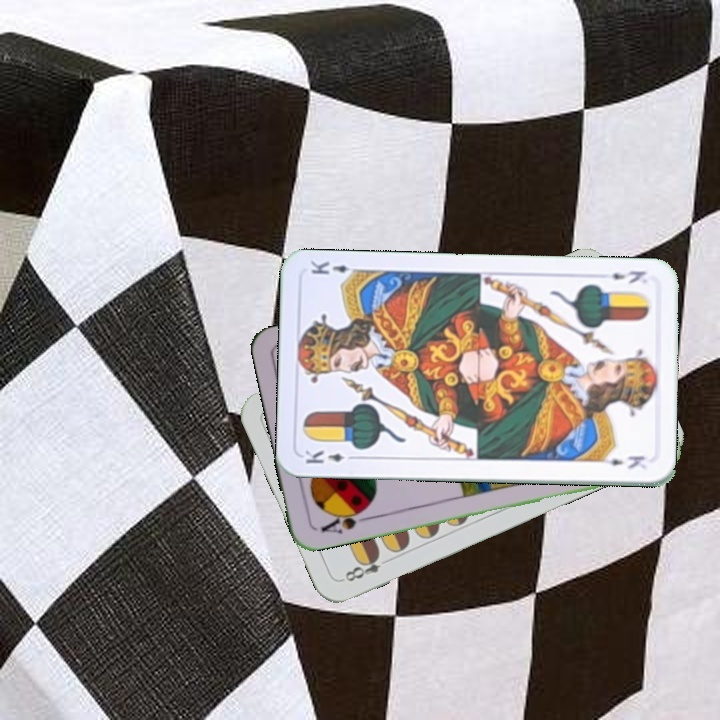E8: (338, 549, 384, 585)
EK: (301, 446, 360, 466), (607, 266, 648, 286)
SA: (317, 503, 373, 537)
